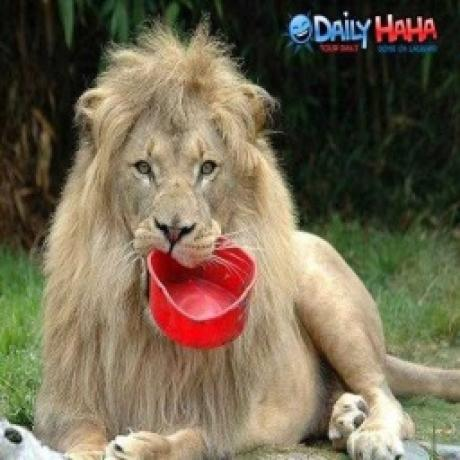Lion: (32, 21, 459, 460)
